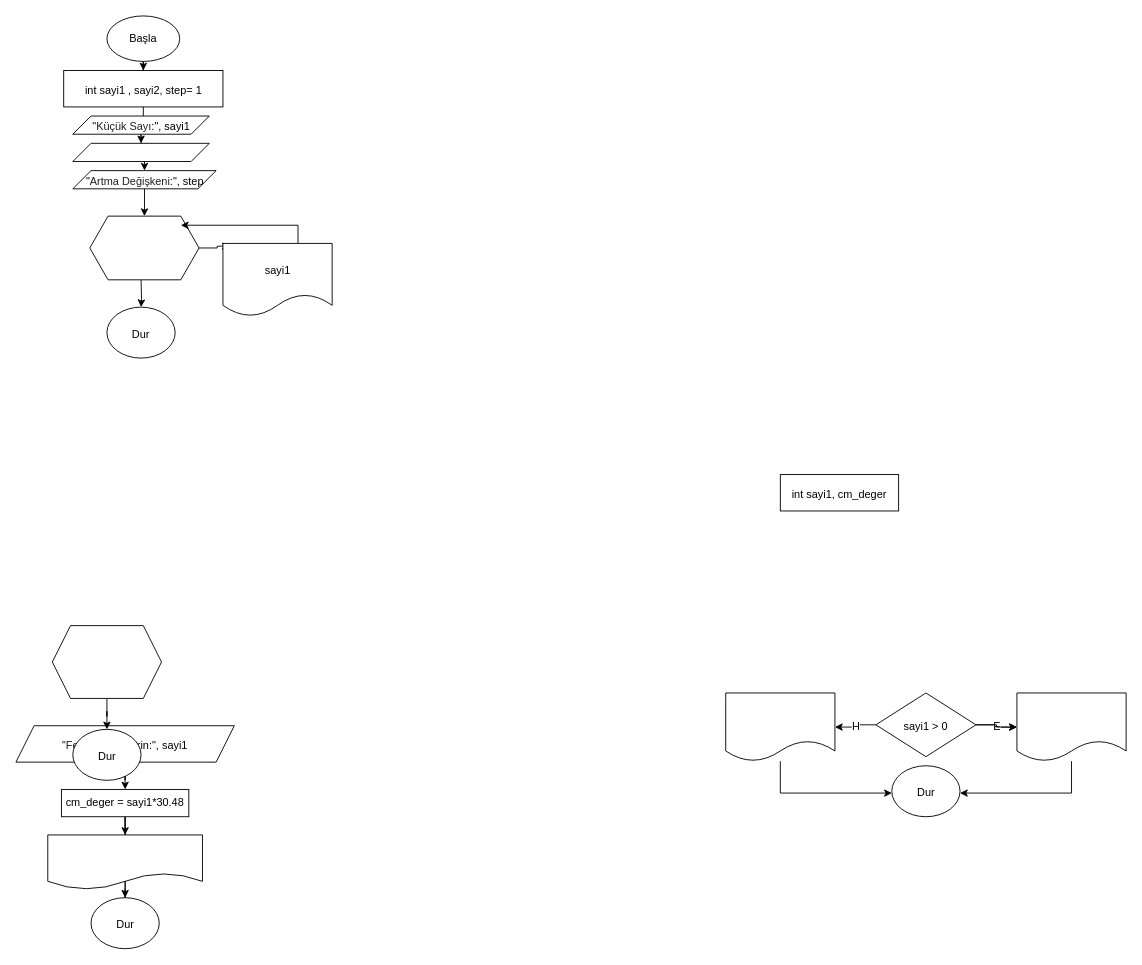
Image size: 1142x965. Some labels were removed from this diagram. The shapes that lost their labels are listed below. From the top down, each one's centre as x and y in pixels, then its label:
the point at 140,152: " Büyük Sayı :", sayi2
the point at 144,247: sayi1,sayi2,step
the point at 106,661: sayi1,10,1
the point at 780,726: " Donma riski var"
the point at 1071,726: "Donma riski yok "
the point at 124,862: "Girdiğiniz sayının cm cinsinden değeri: ", cm_deger
